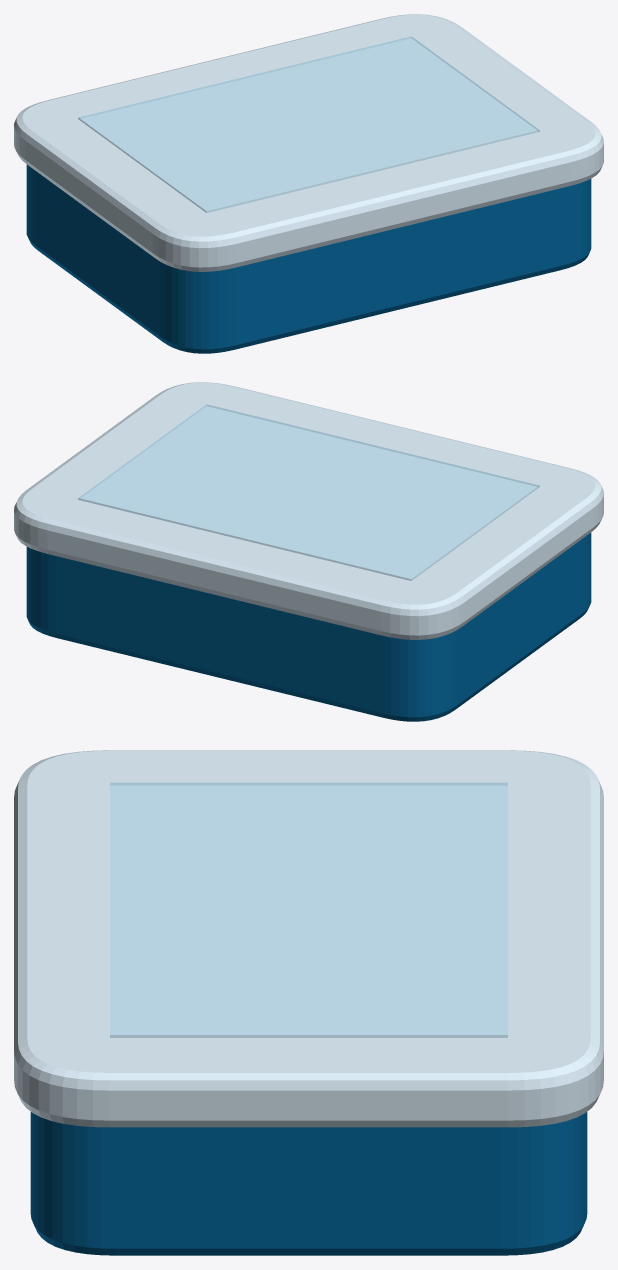
The model's file is frozen-pack.glb.
The picture shows the model from 3 angles, top to bottom: view 1: azimuth 30°, elevation 25°; view 2: azimuth 150°, elevation 25°; view 3: azimuth 270°, elevation 25°; orthographic projection. The views are drawn at different scales.
Visible parts, largest first — view 1: Frozen_Rim, Frozen_Tray, Frost_Window; view 2: Frozen_Rim, Frozen_Tray, Frost_Window; view 3: Frozen_Rim, Frost_Window, Frozen_Tray.
Boxes of the visible parts, box(x1,y1,x2,y2) form: Frozen_Rim: box(14, 14, 603, 271); Frozen_Tray: box(26, 164, 591, 353); Frost_Window: box(78, 36, 539, 212); Frozen_Rim: box(14, 382, 603, 639); Frozen_Tray: box(26, 532, 591, 721); Frost_Window: box(78, 404, 539, 580); Frozen_Rim: box(14, 750, 603, 1127); Frost_Window: box(110, 782, 507, 1037); Frozen_Tray: box(30, 1112, 587, 1255).
Bounding box in the file's own units: 0.238 × 0.064 × 0.178.
